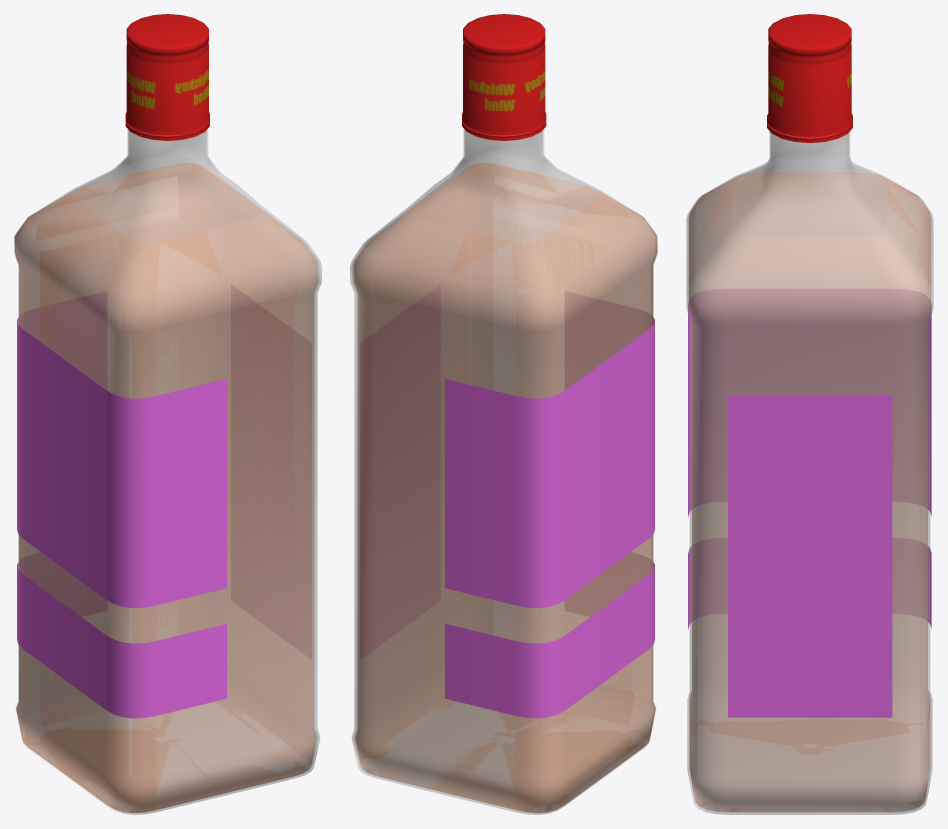
File: bar23.gltf
3 renders of one model, left to right at view 1: azimuth 30°, elevation 25°; view 2: azimuth 150°, elevation 25°; view 3: azimuth 270°, elevation 25°, orthographic.
Parts seen in each view (by area): view 1: b2; view 2: b2; view 3: b2.
Boxes of the visible parts, x1,y1,x2,y2 form: b2: (14,14,321,814); b2: (350,14,657,814); b2: (686,14,933,814).
Size of the model in its own units: 0.0581 by 0.1905 by 0.0581.
